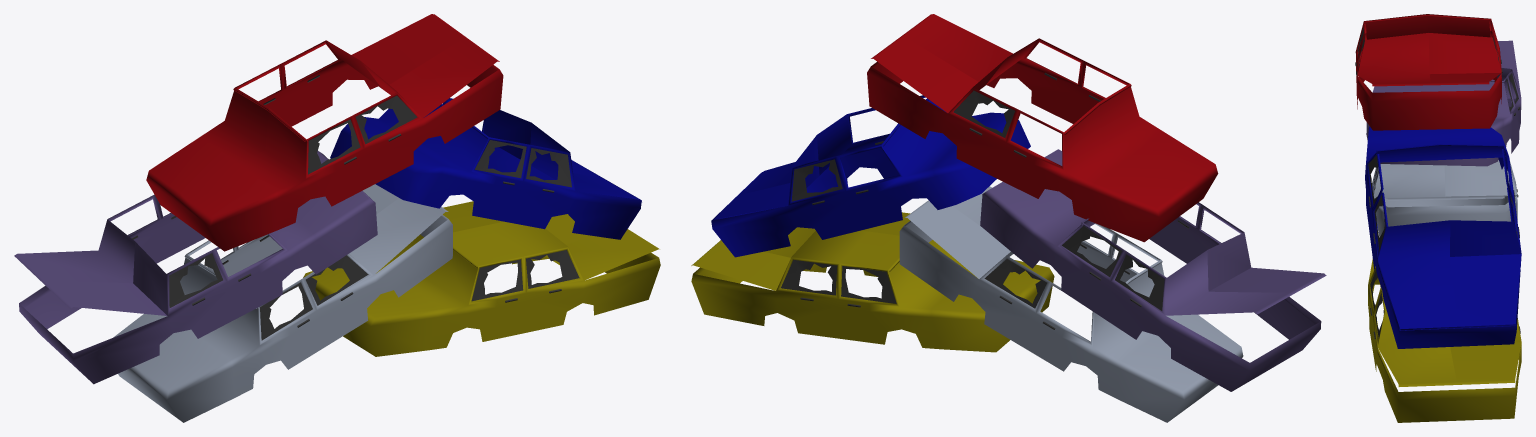
File: D_cars.fbx
3 views of the same model, side by side, from view 1: azimuth 30°, elevation 25°; view 2: azimuth 150°, elevation 25°; view 3: azimuth 270°, elevation 25° (orthographic). The views are drawn at different scales.
Visible parts, largest first — view 1: glass1, polySurface18.002, glass4.005, polySurface14.004, glass1.002, glass1.001; view 2: glass1, polySurface18.002, glass4.005, polySurface14.004, glass1.002, glass1.003, glass3.002, glass4.002; view 3: glass1.002, glass1, glass4.005, polySurface14.004, polySurface18.002.
Boxes of the visible parts, box(x1,y1,x2,y2) form: glass1: box(146, 14, 503, 251); polySurface18.002: box(14, 151, 377, 384); glass4.005: box(303, 201, 660, 356); polySurface14.004: box(113, 184, 452, 422); glass1.002: box(330, 98, 641, 239); glass1.001: box(169, 253, 222, 307); glass1: box(867, 14, 1218, 242); polySurface18.002: box(980, 149, 1326, 391); glass4.005: box(691, 212, 1054, 352); polySurface14.004: box(899, 186, 1243, 422); glass1.002: box(711, 95, 1030, 257); glass1.003: box(984, 259, 1046, 308); glass3.002: box(1115, 254, 1164, 310); glass4.002: box(1062, 226, 1121, 276); glass1.002: box(1365, 126, 1521, 348); glass1: box(1355, 14, 1502, 130); glass4.005: box(1368, 259, 1521, 422); polySurface14.004: box(1372, 160, 1518, 237); polySurface18.002: box(1366, 40, 1521, 166).
Bounding box in the file's own units: 862 × 412 × 228.
